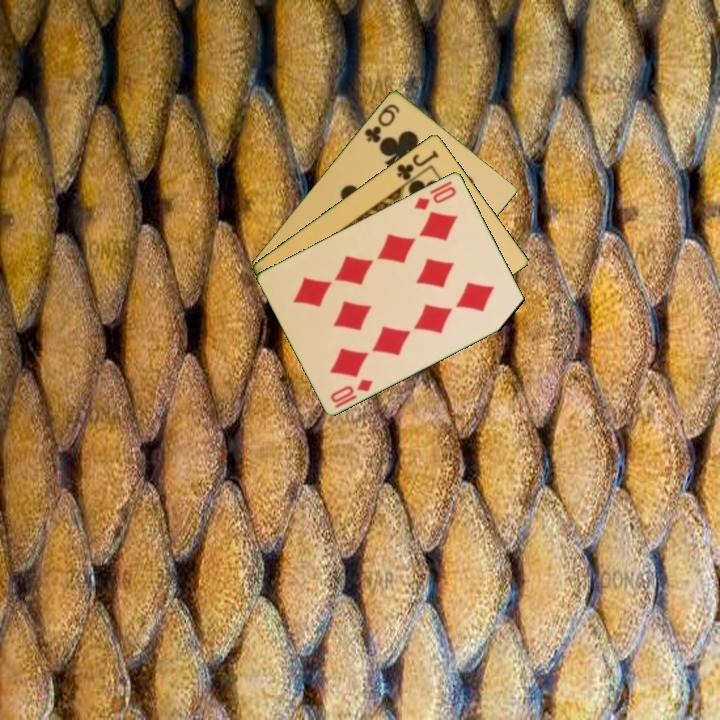10d: (327, 375, 376, 411), (411, 182, 459, 213)
6c: (361, 100, 403, 145)
Jc: (393, 146, 442, 183)
